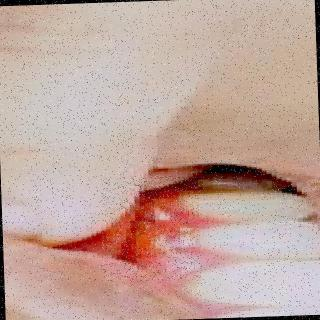Gum Swelling: (126, 204, 190, 278)
